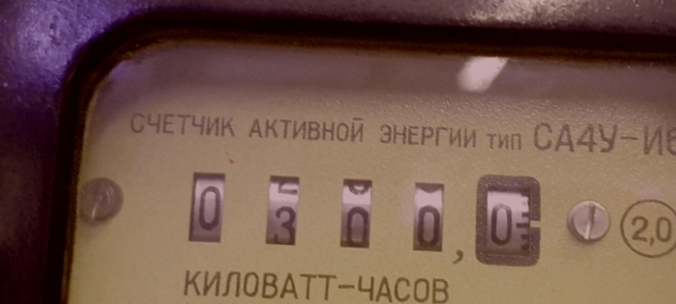0: (195, 182, 223, 234), (341, 202, 370, 252), (486, 201, 515, 251), (412, 204, 442, 251)
3: (269, 203, 298, 247)
screen: (167, 155, 551, 277)
